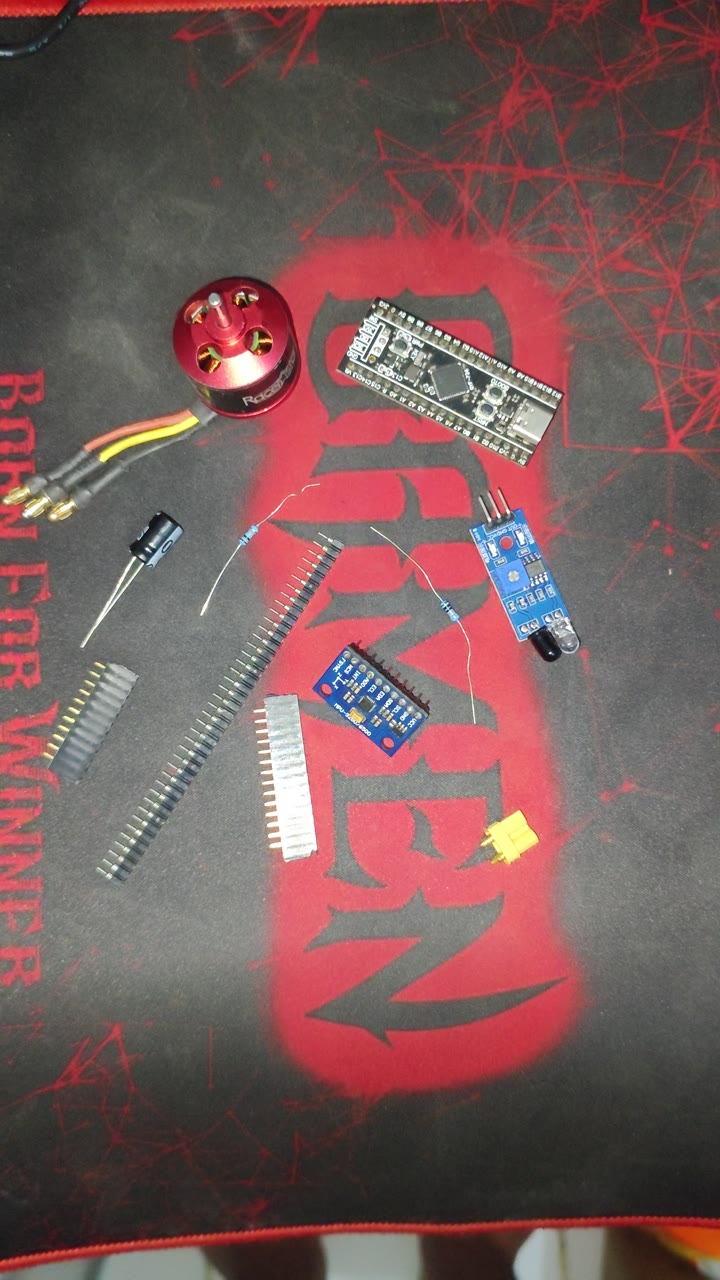bldc_motor: (74, 266, 310, 468)
elco_capacitor: (114, 508, 178, 592)
ir_sensor: (449, 497, 584, 668)
mpu6500: (305, 609, 465, 761)
pin_header: (104, 721, 249, 860), (251, 687, 317, 858), (55, 644, 108, 790)
resistor: (208, 497, 303, 580), (404, 560, 475, 649)
stm32f4: (354, 294, 569, 458)
xt30_female: (481, 806, 541, 866)
